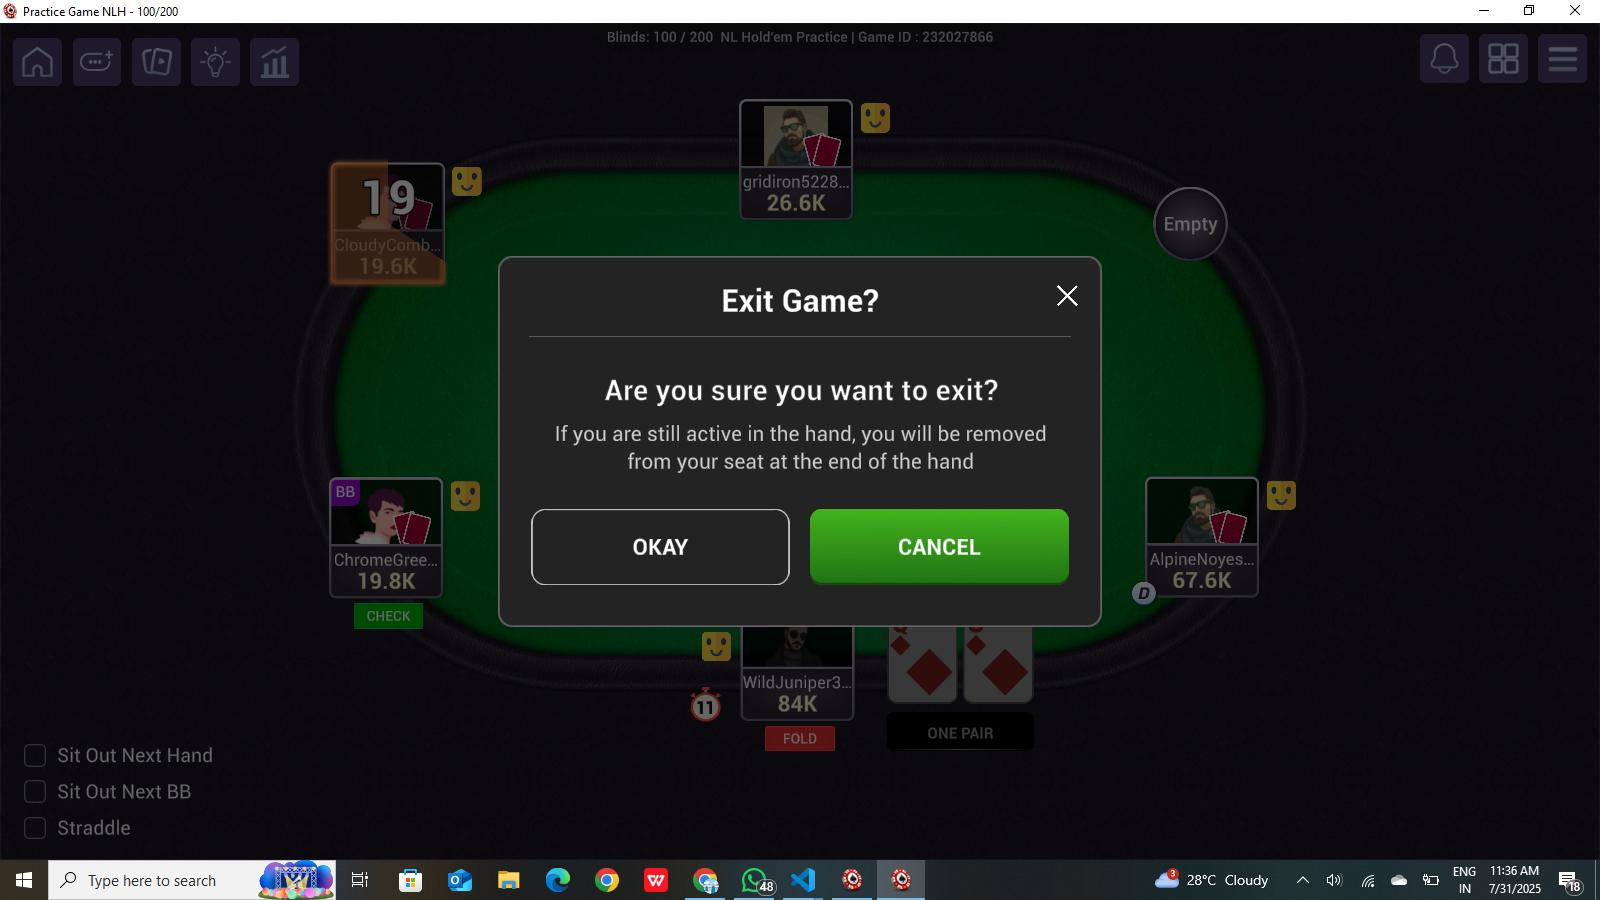position_BB: (332, 478, 364, 510)
